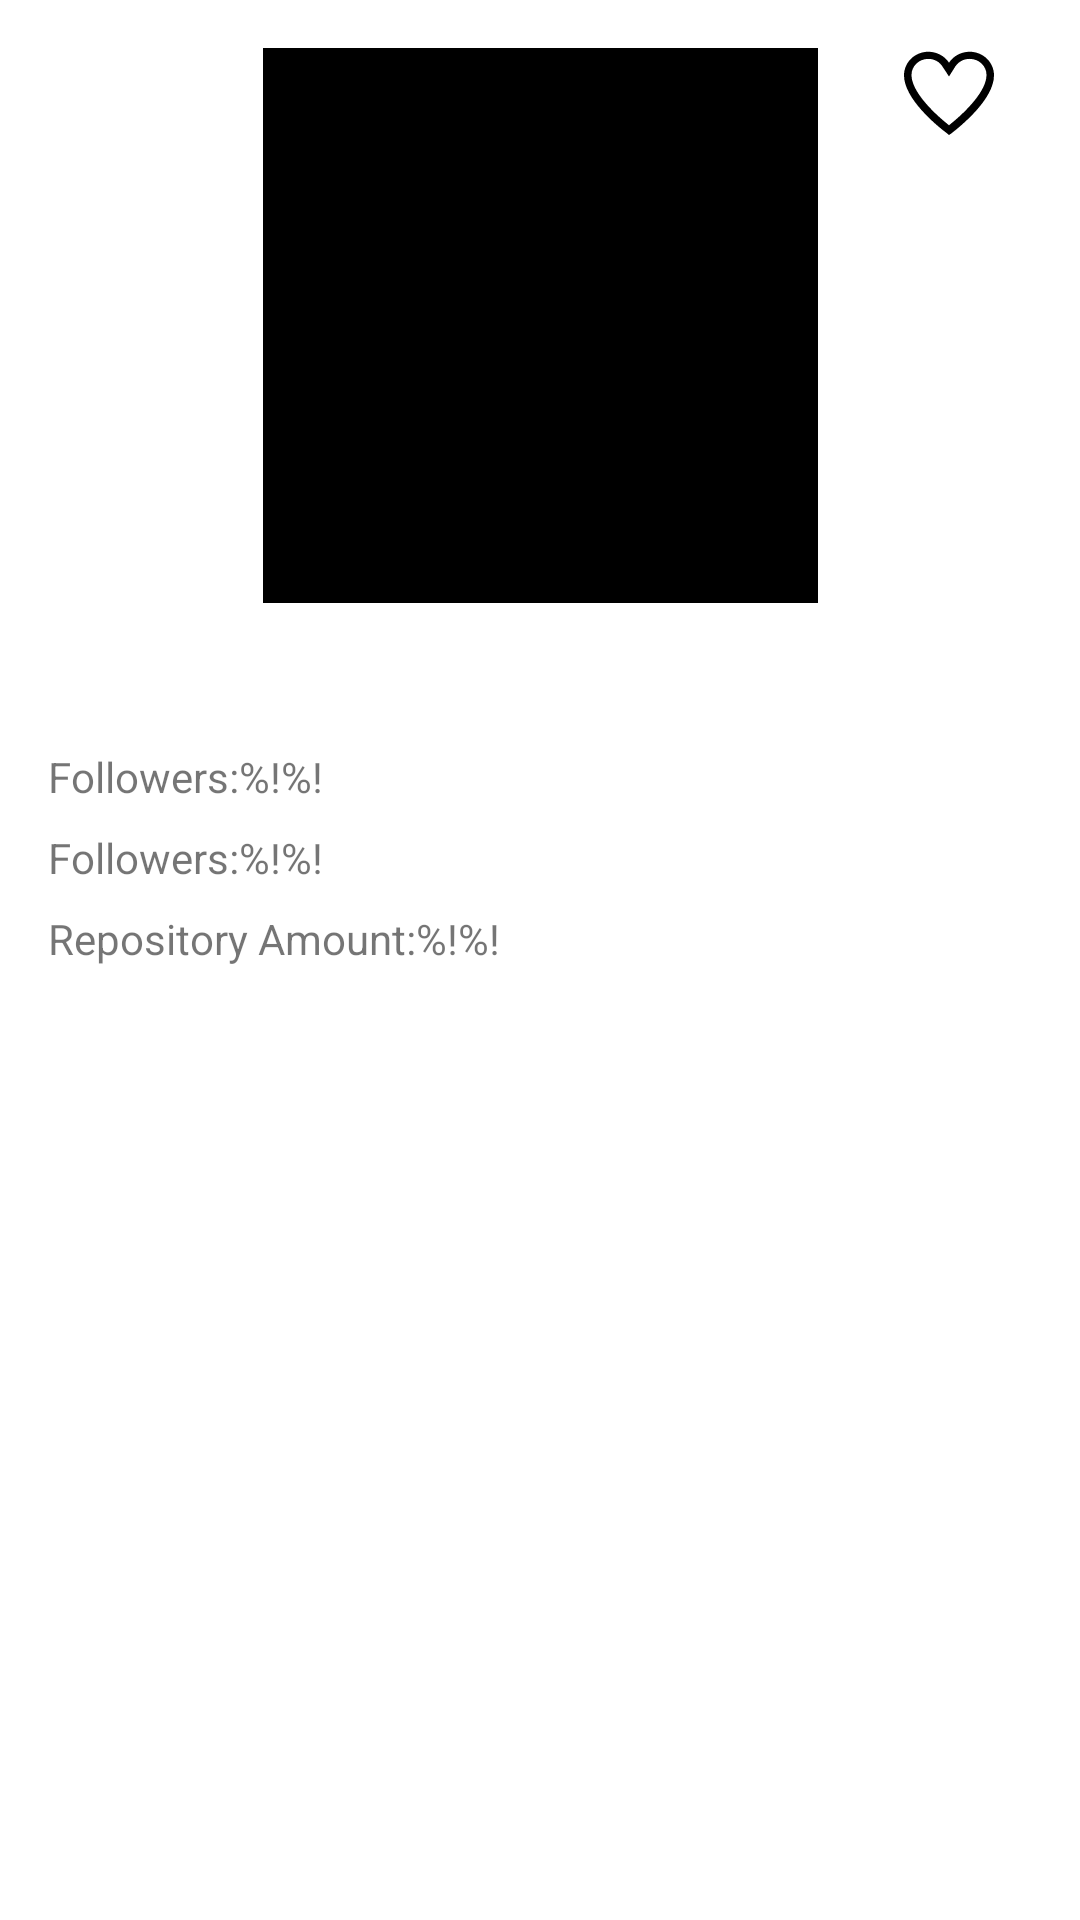

Where to tap for icons on this 1080px x 1920px app screen, as (x=x, y=y):
favorite: (x=949, y=93)
